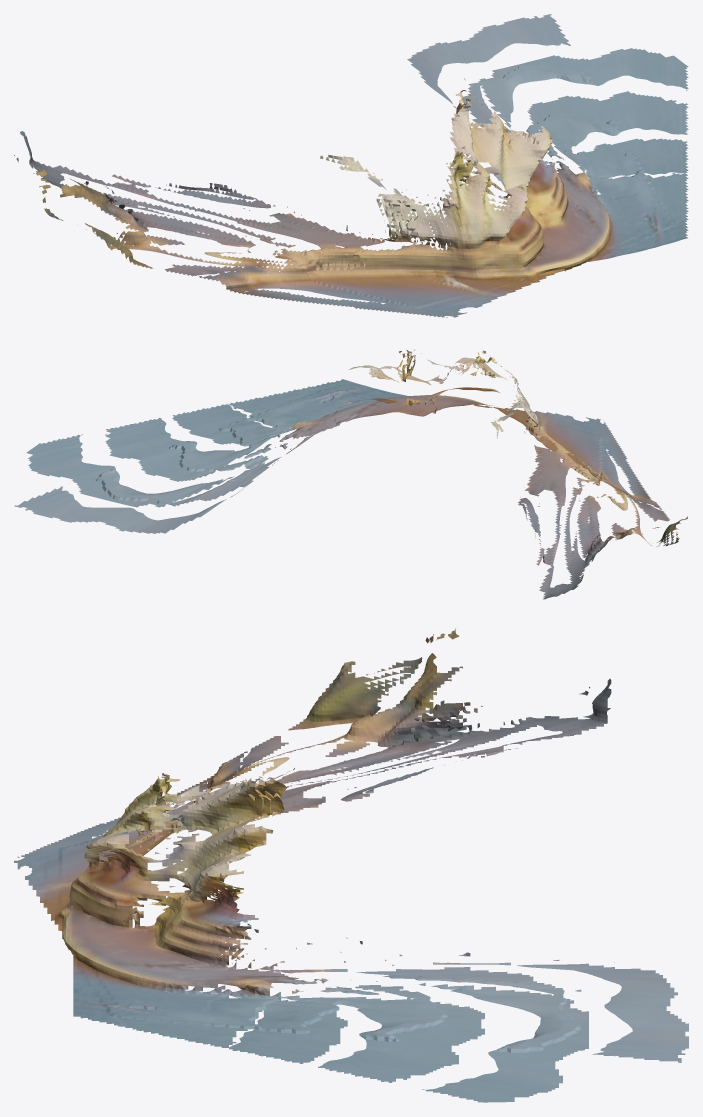
3 renders of one model, top to bottom at view 1: azimuth 30°, elevation 25°; view 2: azimuth 150°, elevation 25°; view 3: azimuth 270°, elevation 25°, orthographic. The views are drawn at different scales.
Visible parts, largest first — view 1: world; view 2: world; view 3: world.
Part boxes in pixels (x1,y1,x2,y2): world: (14, 14, 688, 317); world: (14, 349, 687, 599); world: (14, 628, 688, 1102).
Size of the model in its own units: 1.45 by 0.2615 by 1.03.
